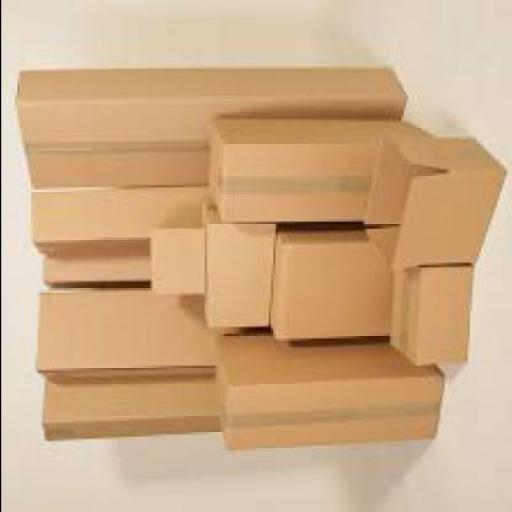cardboard: (11, 67, 400, 187), (212, 332, 442, 447), (203, 116, 430, 220), (361, 125, 503, 266), (28, 185, 210, 286), (34, 290, 245, 376), (264, 224, 402, 336), (37, 375, 219, 436), (198, 201, 272, 329), (385, 263, 468, 366), (146, 224, 200, 290)
